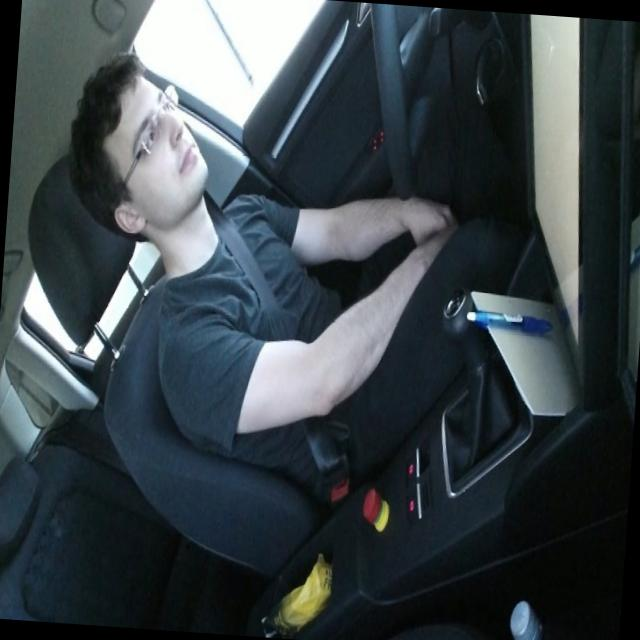pen: (464, 306, 554, 334)
